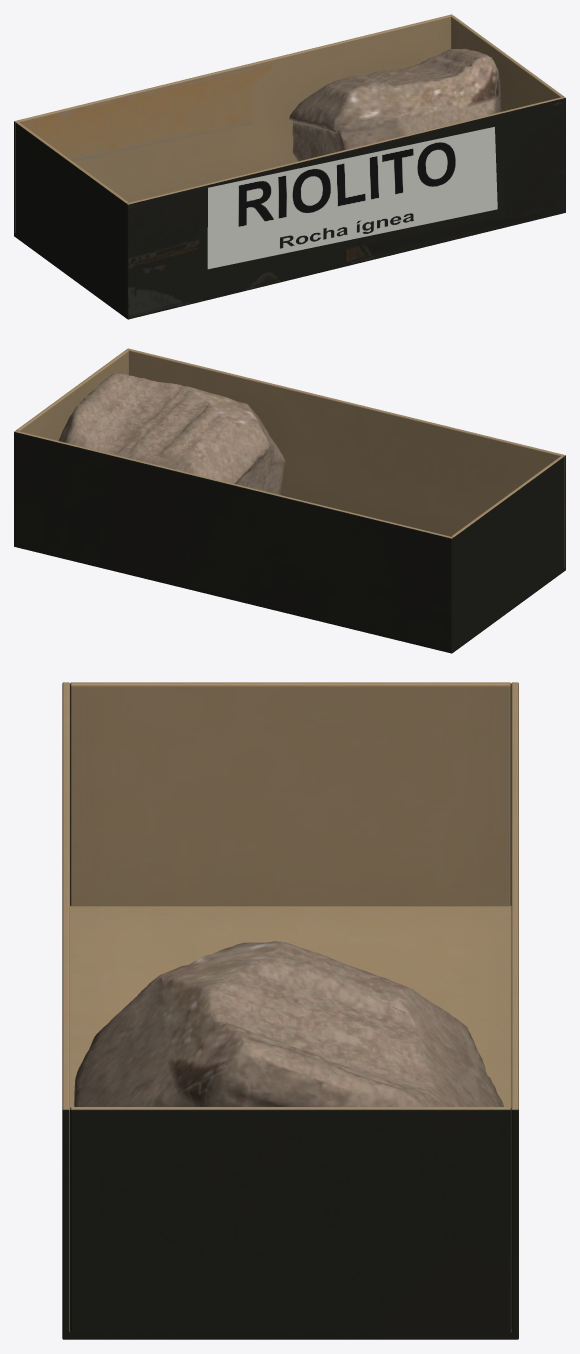
Rendered from rocha_02_08_riolito.glb.
The picture shows the model from 3 angles, top to bottom: view 1: azimuth 30°, elevation 25°; view 2: azimuth 150°, elevation 25°; view 3: azimuth 270°, elevation 25°; orthographic projection. The views are drawn at different scales.
Parts seen in each view (by area): view 1: Bandeja_Fundo_mo08, Bandeja_Frente_mo08, Etiqueta_mo08, Fragmento_01_mo08, Bandeja_Esquerda_mo08, Bandeja_Direita_mo08, Bandeja_Base_mo08; view 2: Bandeja_Fundo_mo08, Bandeja_Frente_mo08, Fragmento_01_mo08, Bandeja_Esquerda_mo08, Bandeja_Direita_mo08, Bandeja_Base_mo08; view 3: Bandeja_Direita_mo08, Bandeja_Esquerda_mo08, Fragmento_01_mo08, Bandeja_Base_mo08, Bandeja_Fundo_mo08, Bandeja_Frente_mo08.
Part boxes in pixels (left/top/right/bottom): Bandeja_Fundo_mo08: left=14, top=14, right=453, bottom=236; Bandeja_Frente_mo08: left=126, top=96, right=565, bottom=319; Etiqueta_mo08: left=207, top=127, right=497, bottom=269; Fragmento_01_mo08: left=289, top=48, right=501, bottom=161; Bandeja_Esquerda_mo08: left=16, top=122, right=128, bottom=317; Bandeja_Direita_mo08: left=451, top=16, right=563, bottom=111; Bandeja_Base_mo08: left=14, top=209, right=565, bottom=319; Bandeja_Fundo_mo08: left=14, top=430, right=453, bottom=652; Bandeja_Frente_mo08: left=126, top=348, right=565, bottom=570; Fragmento_01_mo08: left=58, top=373, right=285, bottom=494; Bandeja_Esquerda_mo08: left=451, top=456, right=563, bottom=651; Bandeja_Direita_mo08: left=16, top=350, right=128, bottom=440; Bandeja_Base_mo08: left=14, top=543, right=564, bottom=653; Bandeja_Direita_mo08: left=70, top=1107, right=511, bottom=1339; Bandeja_Esquerda_mo08: left=70, top=682, right=511, bottom=906; Fragmento_01_mo08: left=74, top=941, right=503, bottom=1106; Bandeja_Base_mo08: left=62, top=906, right=518, bottom=1339; Bandeja_Fundo_mo08: left=511, top=682, right=518, bottom=1339; Bandeja_Frente_mo08: left=62, top=682, right=69, bottom=1339.
Bounding box in the file's own units: 0.1949 × 0.0561 × 0.0882.
Materials: 3 (3 with a texture image).
